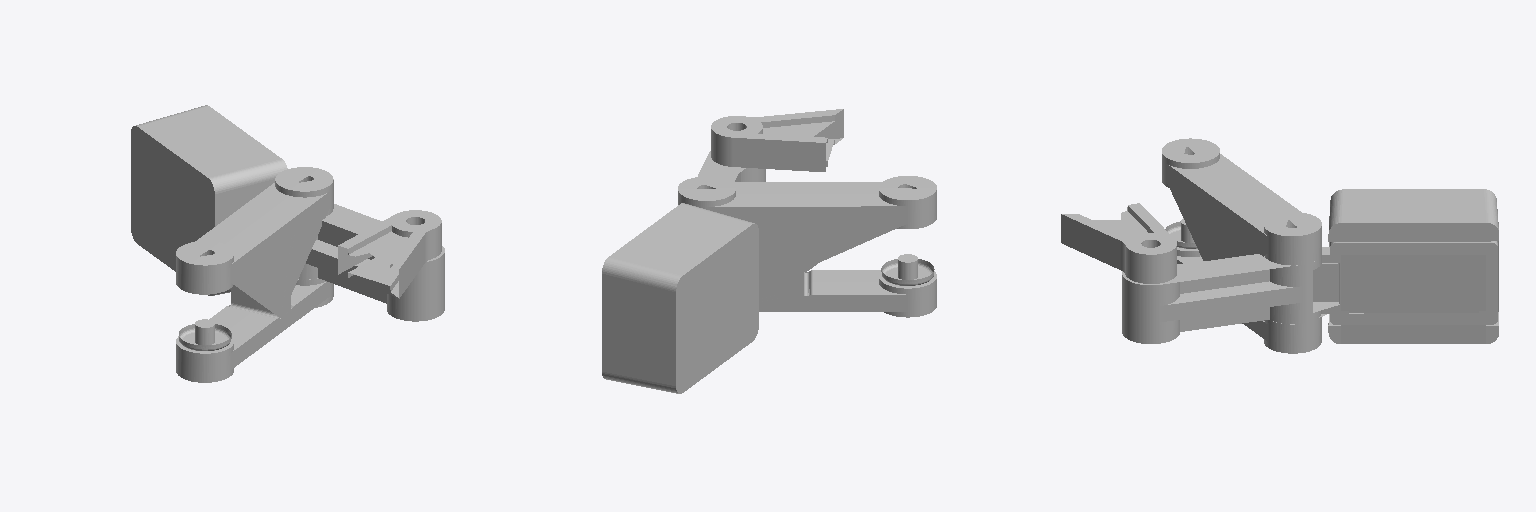
The model's file is gripper_right_arm_big.obj.
3 renders of one model, left to right at view 1: azimuth 30°, elevation 25°; view 2: azimuth 150°, elevation 25°; view 3: azimuth 270°, elevation 25°, orthographic.
Parts seen in each view (by area): view 1: Mesh1 Gripper_right_arm1 Model; view 2: Mesh1 Gripper_right_arm1 Model; view 3: Mesh1 Gripper_right_arm1 Model.
Boxes of the visible parts, <box> form: Mesh1 Gripper_right_arm1 Model: <box>131,105,444,382</box>; Mesh1 Gripper_right_arm1 Model: <box>602,109,936,393</box>; Mesh1 Gripper_right_arm1 Model: <box>1061,138,1498,353</box>.
Bounding box in the file's own units: 42.98 × 20.67 × 67.68.